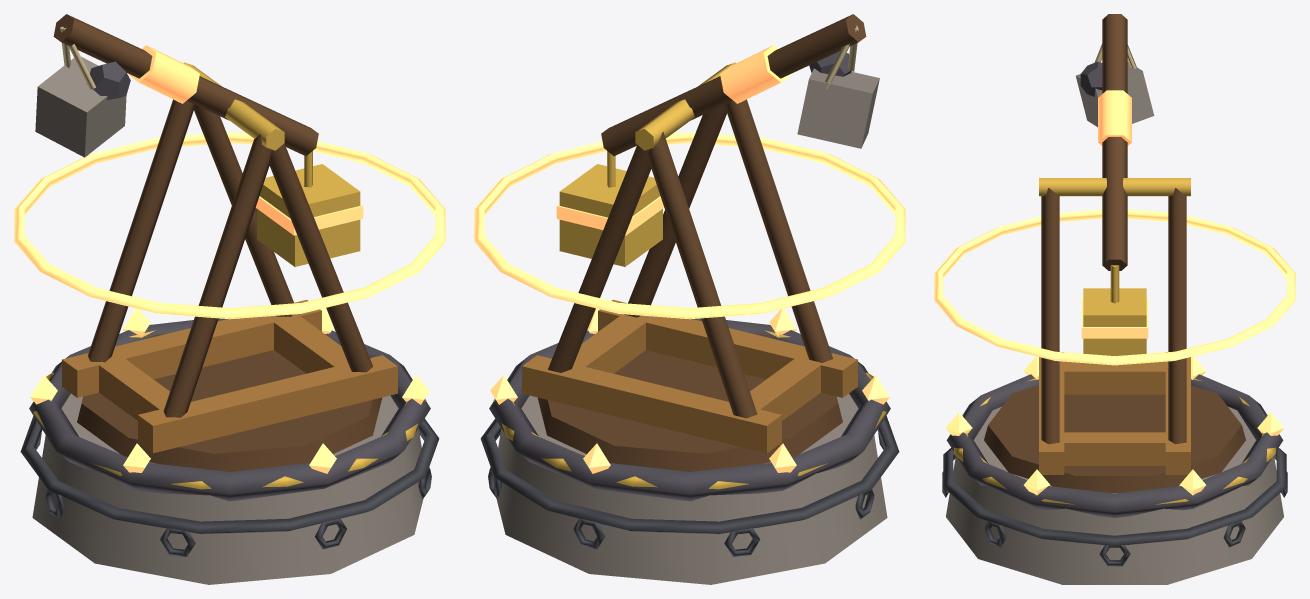
The model's file is tower_catapult_fortressBreaker_ultimate.glb.
3 views of the same model, side by side, from view 1: azimuth 30°, elevation 25°; view 2: azimuth 150°, elevation 25°; view 3: azimuth 270°, elevation 25° (orthographic). The views are drawn at different scales.
Visible parts, largest first — view 1: base, turntable, base_rim, ult_halo, rail_l, chain_band, rail_r, aframe_back_l, aframe_back_r, breaker_block, arm_beam, counterweight (+9 smaller); view 2: base, turntable, base_rim, ult_halo, rail_r, chain_band, rail_l, aframe_back_r, aframe_back_l, arm_beam, counterweight, aframe_front_r (+8 smaller); view 3: base, turntable, base_rim, ult_halo, arm_beam, chain_band, aframe_front_l, aframe_front_r, cross_e, counterweight, cross_w, axle (+7 smaller).
Boxes of the visible parts, x1=… form: base: x1=32, y1=393, x2=423, y2=584; turntable: x1=77, y1=333, x2=382, y2=471; base_rim: x1=29, y1=318, x2=430, y2=501; ult_halo: x1=14, y1=132, x2=445, y2=319; rail_l: x1=138, y1=355, x2=397, y2=453; chain_band: x1=20, y1=416, x2=439, y2=534; rail_r: x1=62, y1=299, x2=321, y2=397; aframe_back_l: x1=163, y1=134, x2=271, y2=417; aframe_back_r: x1=88, y1=99, x2=194, y2=362; breaker_block: x1=35, y1=56, x2=126, y2=157; arm_beam: x1=53, y1=14, x2=318, y2=156; counterweight: x1=257, y1=164, x2=360, y2=266; base: x1=496, y1=393, x2=887, y2=584; turntable: x1=537, y1=333, x2=842, y2=471; base_rim: x1=489, y1=318, x2=890, y2=501; ult_halo: x1=474, y1=132, x2=905, y2=319; rail_r: x1=522, y1=355, x2=781, y2=453; chain_band: x1=480, y1=416, x2=899, y2=534; rail_l: x1=598, y1=299, x2=857, y2=397; aframe_back_r: x1=646, y1=132, x2=757, y2=418; aframe_back_l: x1=724, y1=99, x2=832, y2=362; arm_beam: x1=601, y1=14, x2=866, y2=156; counterweight: x1=559, y1=164, x2=662, y2=266; aframe_front_r: x1=548, y1=145, x2=651, y2=372; base: x1=946, y1=406, x2=1283, y2=584; turntable: x1=984, y1=385, x2=1245, y2=492; base_rim: x1=946, y1=374, x2=1283, y2=517; ult_halo: x1=934, y1=209, x2=1295, y2=365; arm_beam: x1=1102, y1=14, x2=1127, y2=270; chain_band: x1=943, y1=448, x2=1286, y2=545; aframe_front_l: x1=1041, y1=188, x2=1059, y2=444; aframe_front_r: x1=1168, y1=188, x2=1186, y2=444; cross_e: x1=1039, y1=432, x2=1190, y2=465; counterweight: x1=1083, y1=288, x2=1146, y2=364; cross_w: x1=1039, y1=361, x2=1167, y2=394; axle: x1=1039, y1=178, x2=1190, y2=196.
Size of the model in its own units: 0.434 by 0.5707 by 0.4274.
